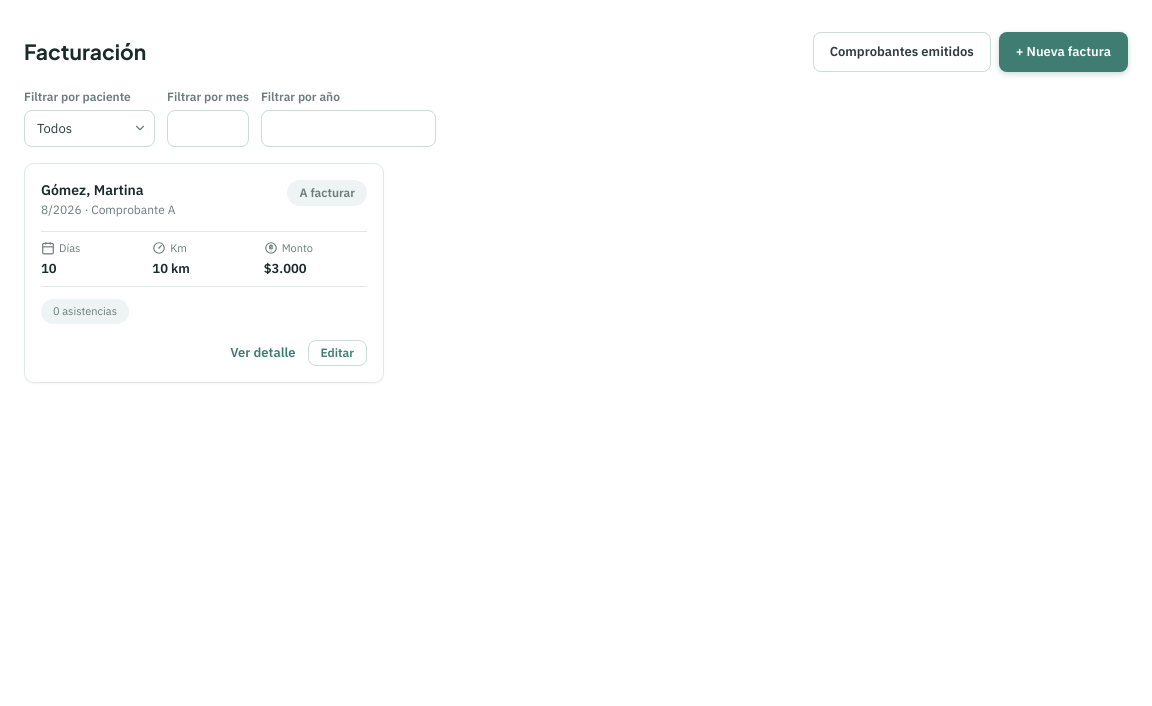
Test case: FacturacionPage › muestra el listado de facturas y navega al detalle al seleccionar una
The width and height of the screenshot is (1152, 706).
Click the text "Gómez, Martina".
click(92, 190)  # box x1=41 y1=181 x2=144 y2=199
(page scrolled)
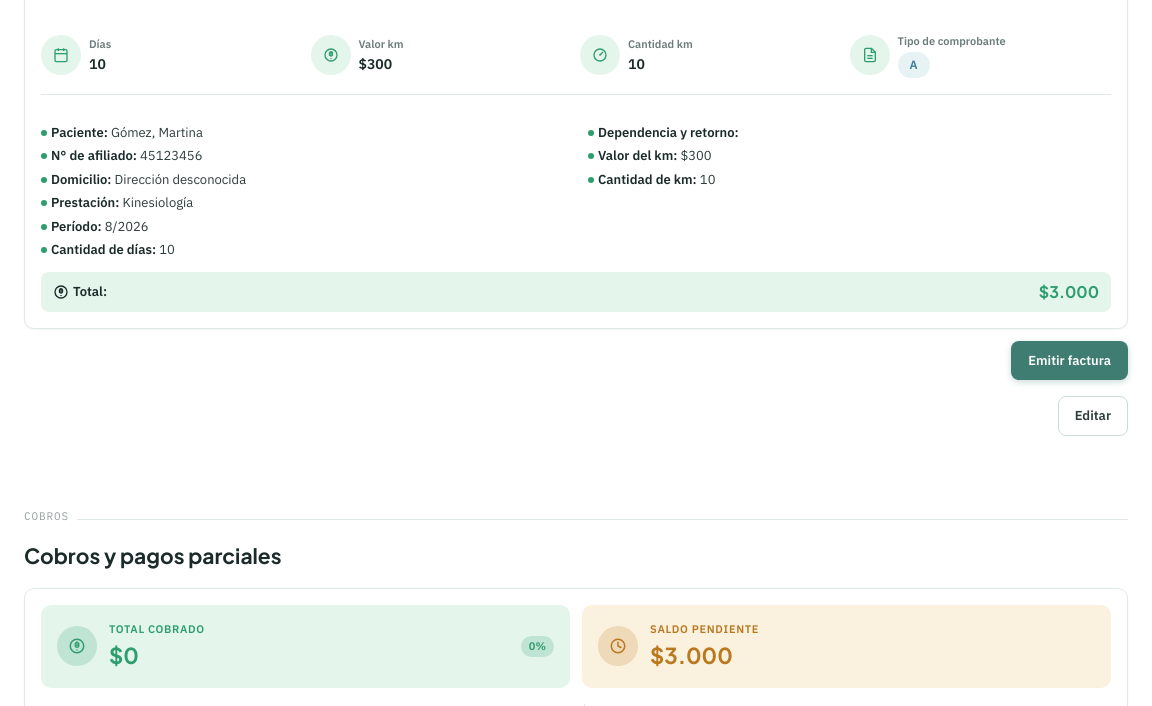
Now the button "Emitir factura" is shown, box x1=1011 y1=340 x2=1128 y2=380
